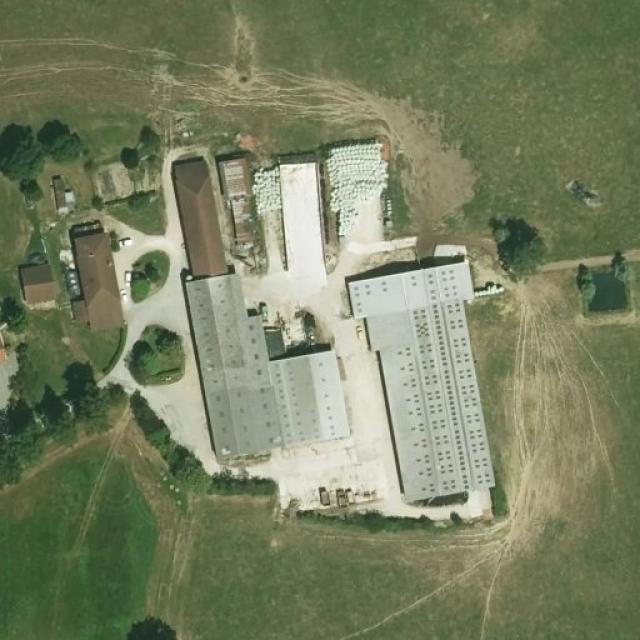maison: (171, 148, 227, 276), (79, 218, 123, 334), (21, 264, 54, 302)
usine: (353, 260, 502, 502), (183, 256, 358, 461), (272, 152, 335, 287)
